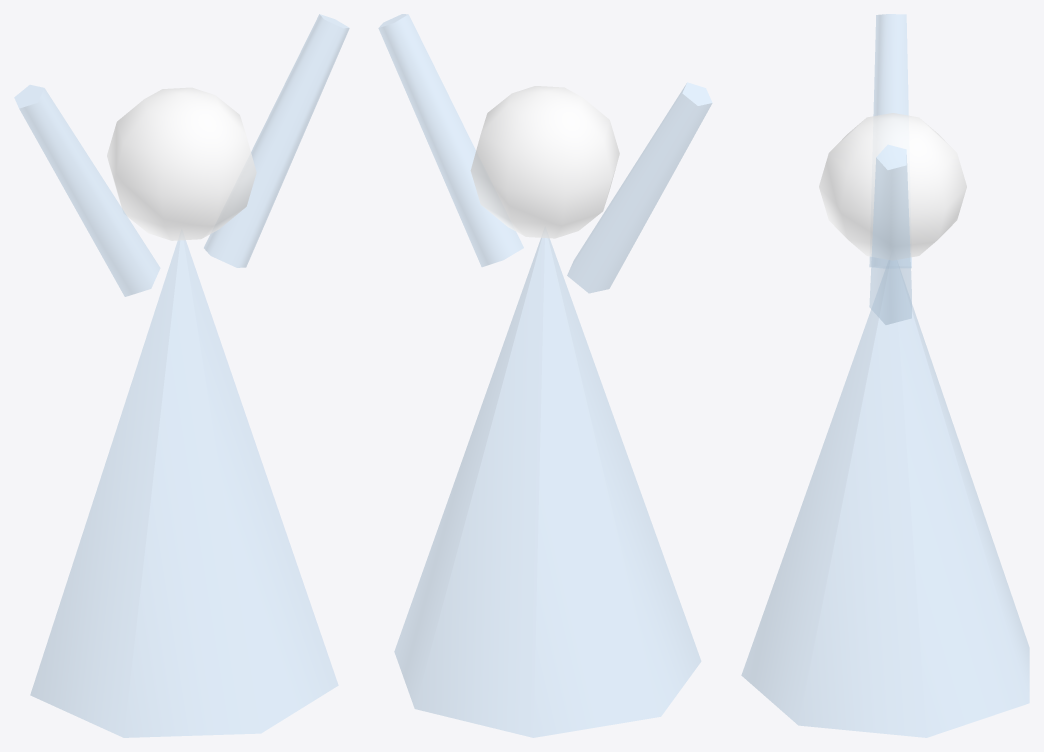
The model's file is lost-soul.glb.
3 views of the same model, side by side, from view 1: azimuth 30°, elevation 25°; view 2: azimuth 150°, elevation 25°; view 3: azimuth 270°, elevation 25° (orthographic). The views are drawn at different scales.
Visible parts, largest first — view 1: Lost soul; view 2: Lost soul; view 3: Lost soul.
Boxes of the visible parts, x1=… form: Lost soul: x1=14, y1=14, x2=349, y2=737; Lost soul: x1=378, y1=14, x2=712, y2=737; Lost soul: x1=741, y1=14, x2=1029, y2=737.
Size of the model in its own units: 1.3 by 2.34 by 1.03.
